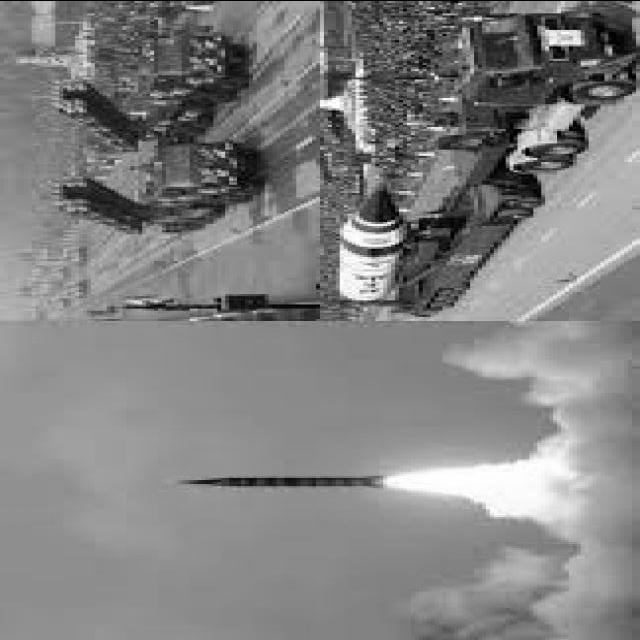Missile: (325, 186, 408, 302), (178, 474, 388, 491)
